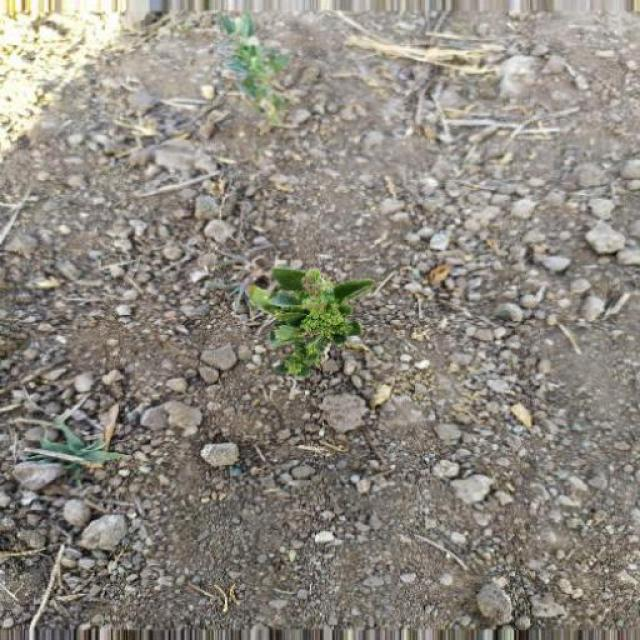weed: (259, 247, 371, 385)
